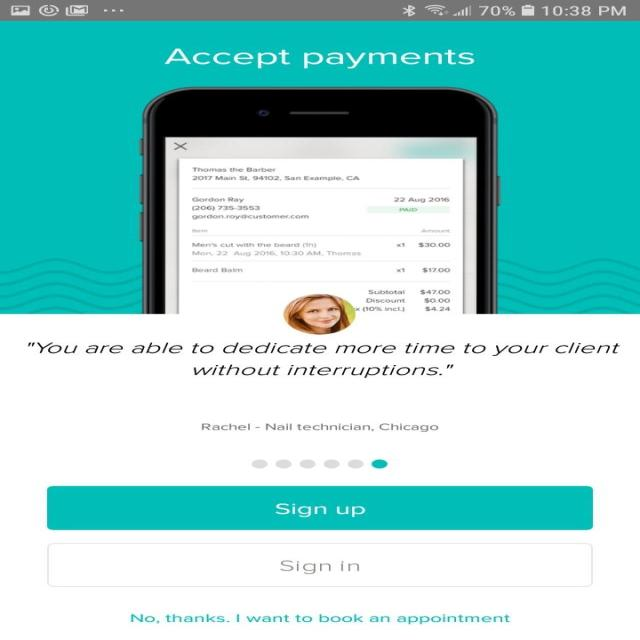Image: (138, 86, 500, 314), (282, 293, 356, 335)
Text: (26, 341, 620, 378), (163, 48, 474, 69), (130, 613, 510, 624), (200, 422, 438, 432)
TextButton: (46, 542, 592, 587), (47, 486, 593, 530)
